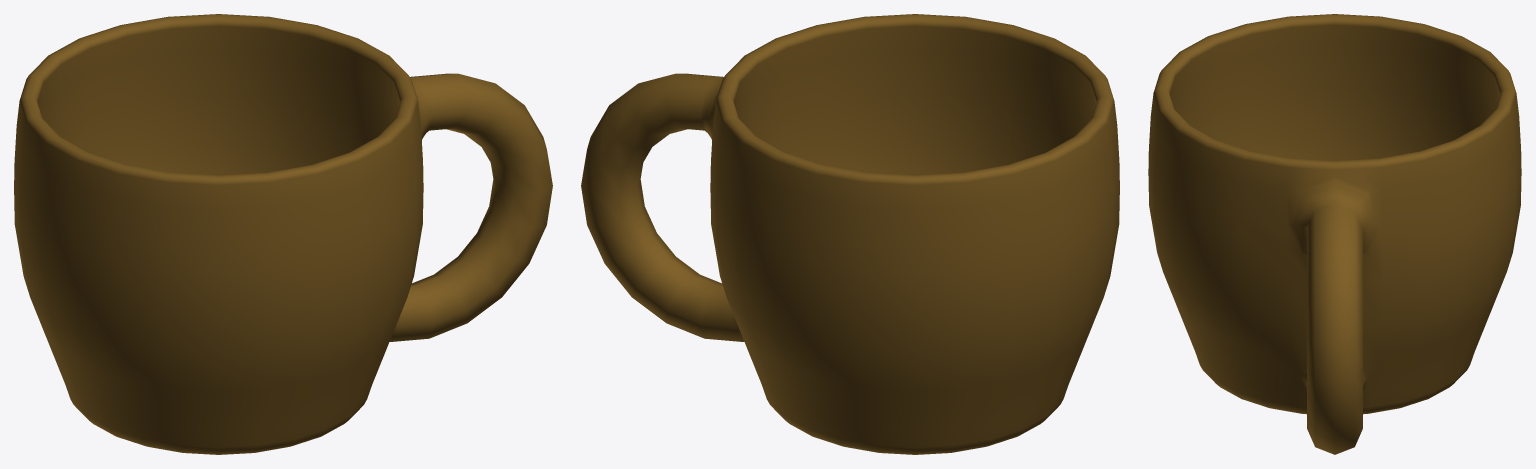
File: MOD_Cup.fbx
3 views of the same model, side by side, from view 1: azimuth 30°, elevation 25°; view 2: azimuth 150°, elevation 25°; view 3: azimuth 270°, elevation 25° (orthographic). The views are drawn at different scales.
Visible parts, largest first — view 1: Coffee_Cup_Ready; view 2: Coffee_Cup_Ready; view 3: Coffee_Cup_Ready.
Boxes of the visible parts, x1,y1,x2,y2 form: Coffee_Cup_Ready: [14, 14, 552, 454]; Coffee_Cup_Ready: [581, 14, 1119, 454]; Coffee_Cup_Ready: [1148, 14, 1521, 454].
Bounding box in the file's own units: 0.559 × 0.3189 × 0.39.
